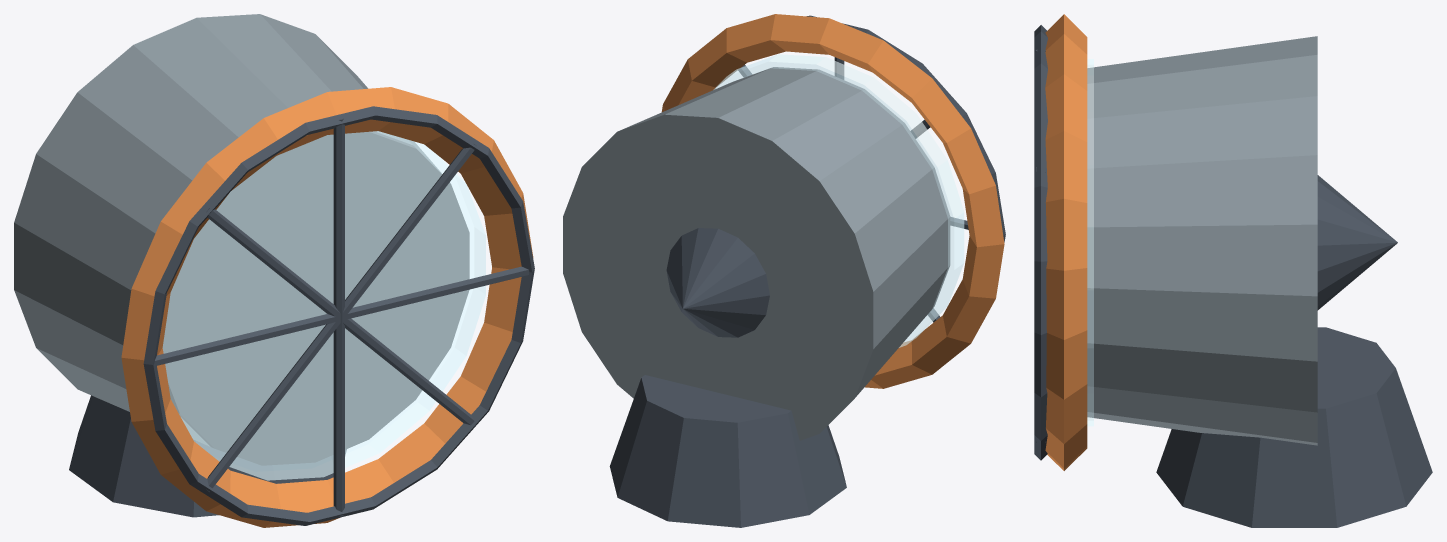
The model's file is sub_headlamp.glb.
3 renders of one model, left to right at view 1: azimuth 30°, elevation 25°; view 2: azimuth 150°, elevation 25°; view 3: azimuth 270°, elevation 25°, orthographic. The views are drawn at different scales.
Parts seen in each view (by area): view 1: sub_headlamp_hull, sub_headlamp_glass, sub_headlamp_dark, sub_headlamp_accent; view 2: sub_headlamp_hull, sub_headlamp_dark, sub_headlamp_accent, sub_headlamp_glass; view 3: sub_headlamp_hull, sub_headlamp_dark, sub_headlamp_accent, sub_headlamp_glass.
Part boxes in pixels (x1,y1,x2,y2): sub_headlamp_hull: [14, 14, 469, 465]; sub_headlamp_glass: [163, 131, 485, 480]; sub_headlamp_dark: [69, 106, 534, 525]; sub_headlamp_accent: [121, 87, 533, 527]; sub_headlamp_hull: [563, 67, 950, 440]; sub_headlamp_dark: [609, 15, 1005, 527]; sub_headlamp_accent: [661, 14, 1004, 388]; sub_headlamp_glass: [713, 54, 964, 347]; sub_headlamp_hull: [1087, 36, 1317, 445]; sub_headlamp_dark: [1034, 25, 1432, 527]; sub_headlamp_accent: [1045, 14, 1087, 470]; sub_headlamp_glass: [1087, 59, 1093, 426].
Bounding box in the file's own units: 1 × 1.05 × 0.865.
